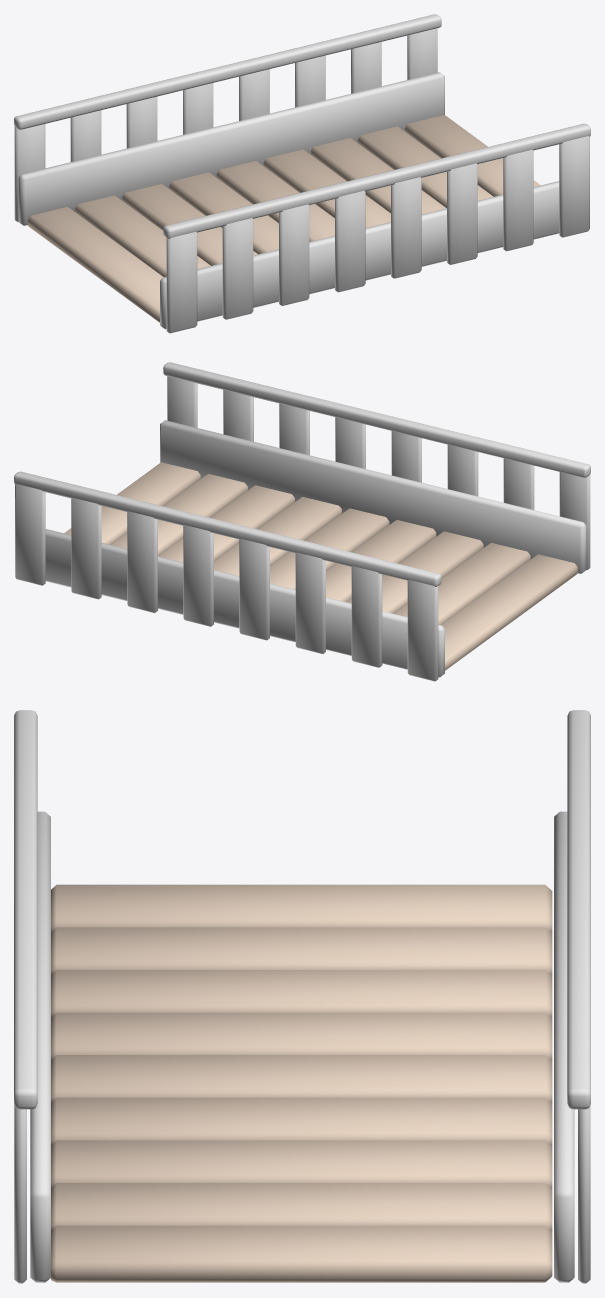
The model's file is Puente.fbx.
The picture shows the model from 3 angles, top to bottom: view 1: azimuth 30°, elevation 25°; view 2: azimuth 150°, elevation 25°; view 3: azimuth 270°, elevation 25°; orthographic projection. The views are drawn at different scales.
Parts seen in each view (by area): view 1: Cube.023, Cube.021, Cube.002, Cube.022; view 2: Cube.023, Cube.002, Cube.021, Cube.022; view 3: Cube.002, Cube.022, Cube.021, Cube.023.
Boxes of the visible parts, box(x1,y1,x2,y2) form: Cube.023: box(14, 28, 589, 333); Cube.021: box(18, 72, 559, 329); Cube.002: box(28, 115, 540, 322); Cube.022: box(14, 14, 590, 238); Cube.023: box(15, 376, 590, 681); Cube.002: box(64, 462, 577, 670); Cube.021: box(45, 420, 586, 677); Cube.022: box(14, 362, 590, 586); Cube.002: box(50, 884, 552, 1282); Cube.022: box(14, 710, 590, 1109); Cube.021: box(30, 811, 574, 1282); Cube.023: box(14, 1105, 590, 1283).
Size of the model in its own units: 5.93 by 1.41 by 3.78.
